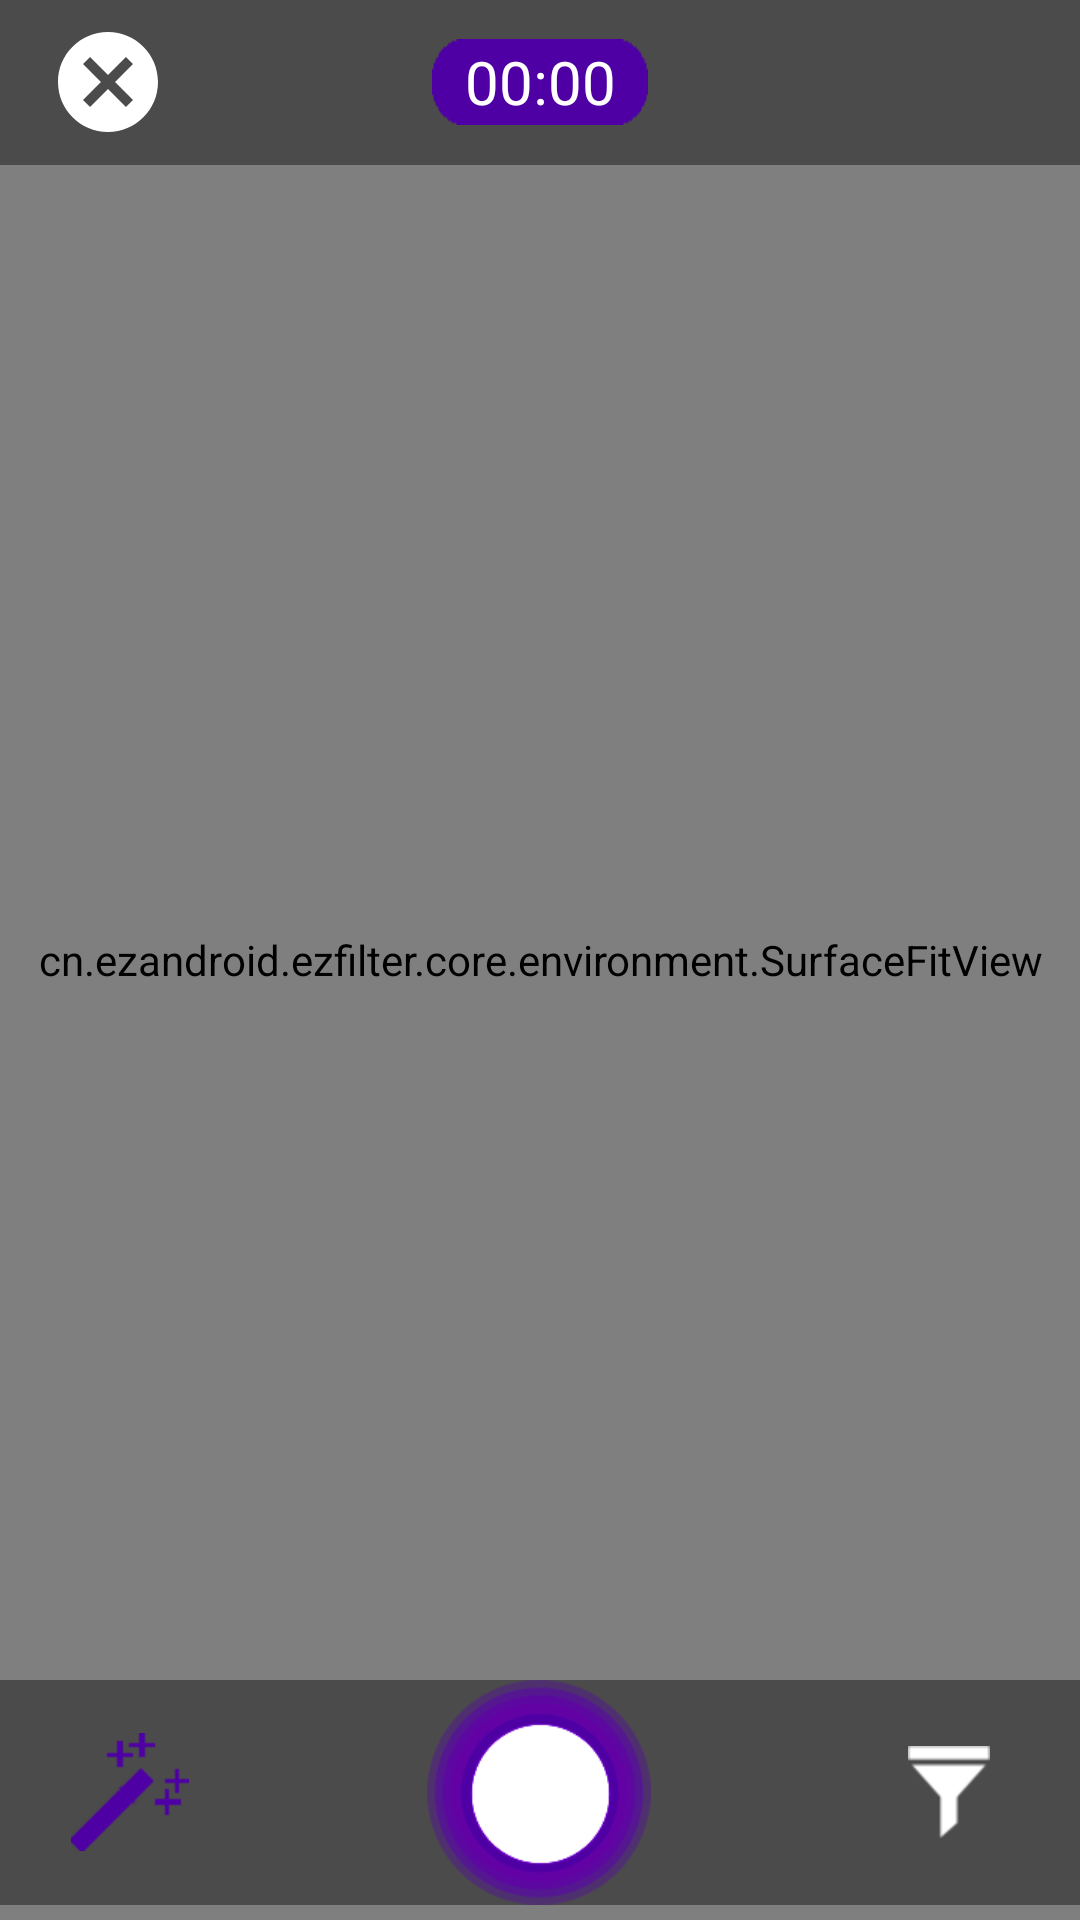

Named icons in this screenshot (1080px×1920px) and their centers, [x,y]:
cancel: [108,82]
video recording: [539,1792]
